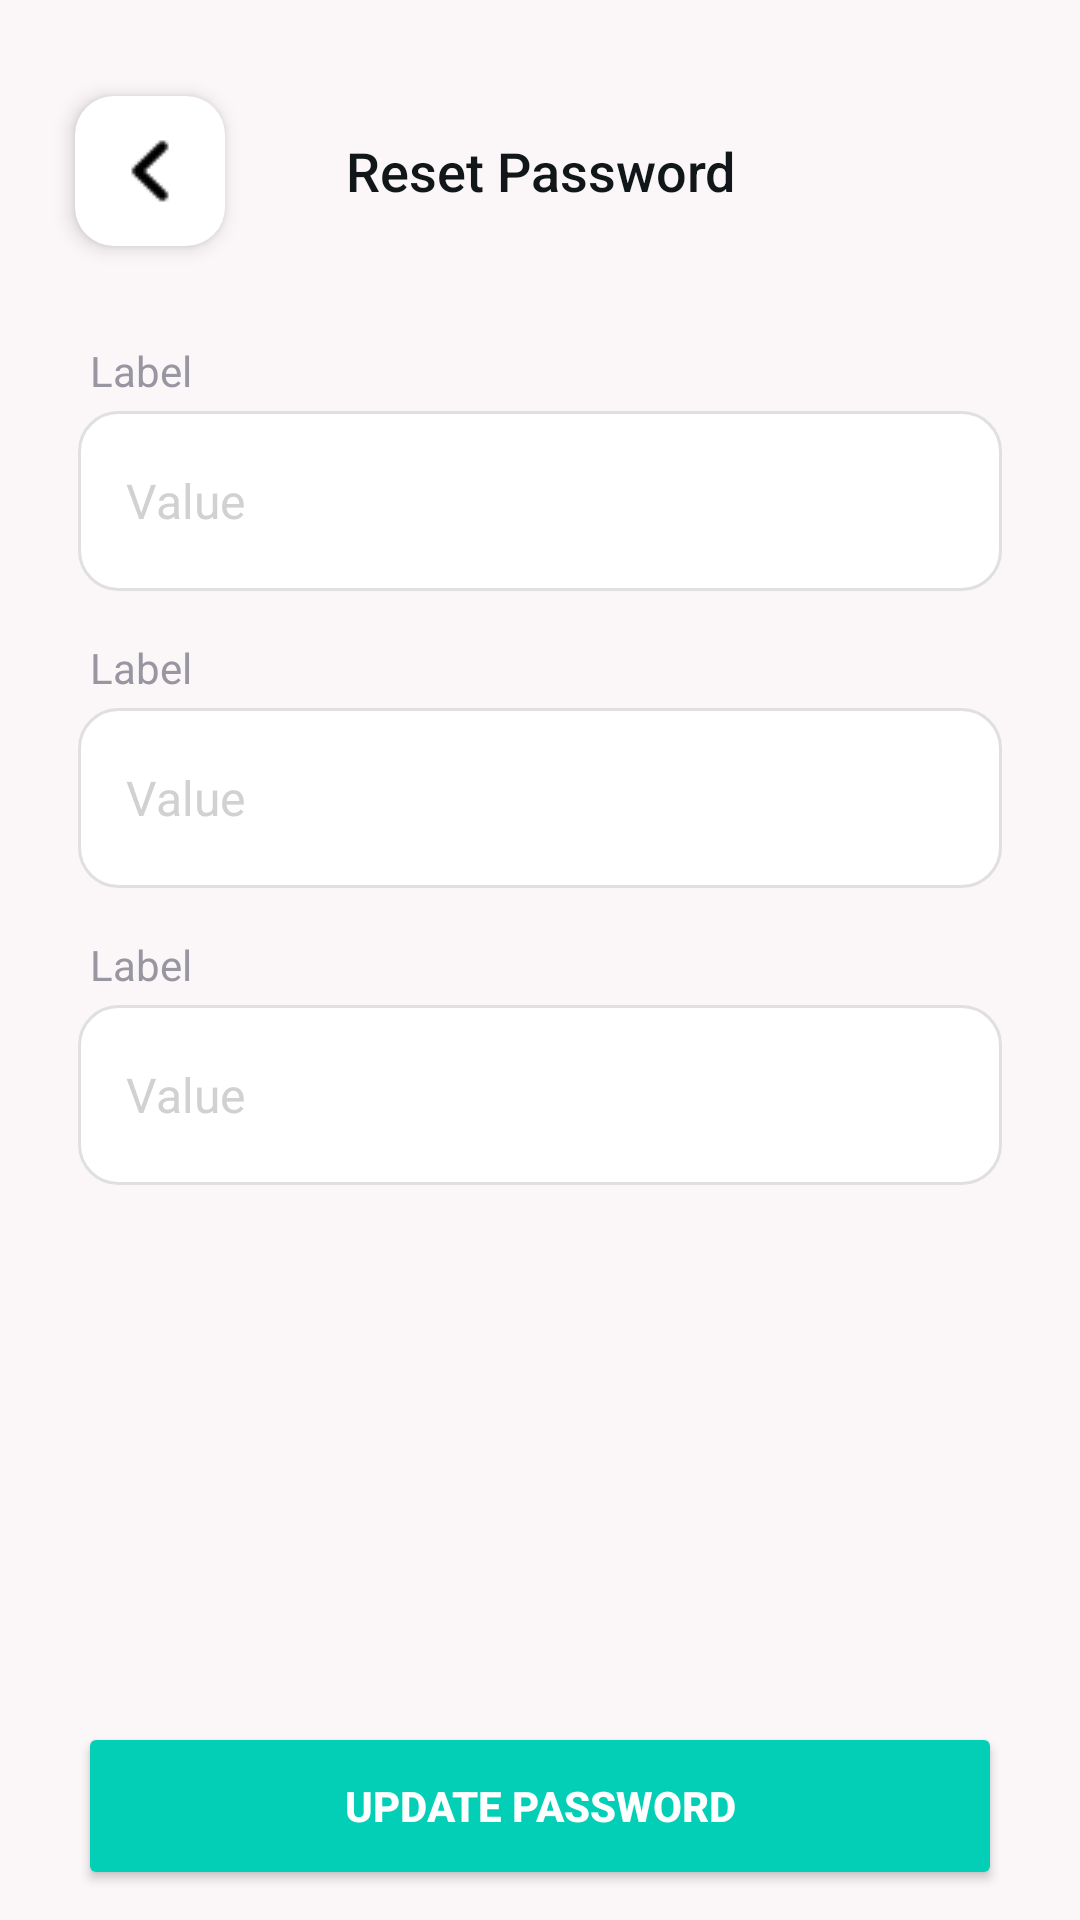

Point at icon controls on the screen. Image size 1080×1920, points as [x,y].
back arrow: [150,171]
